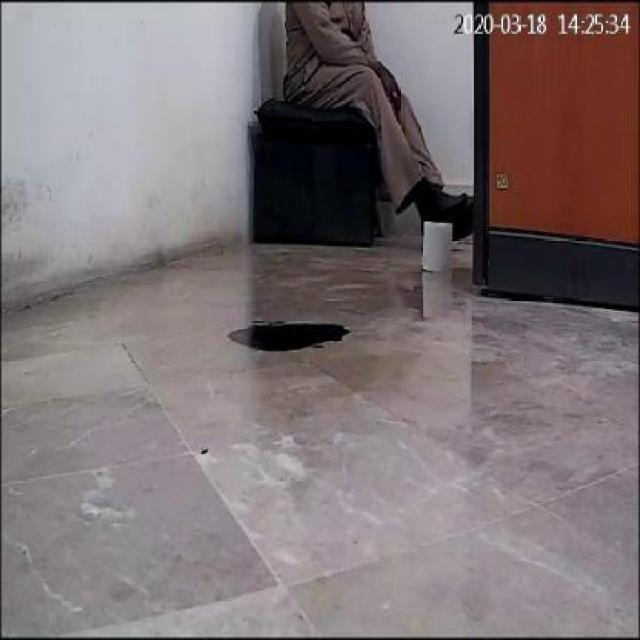spill: (228, 317, 344, 352)
